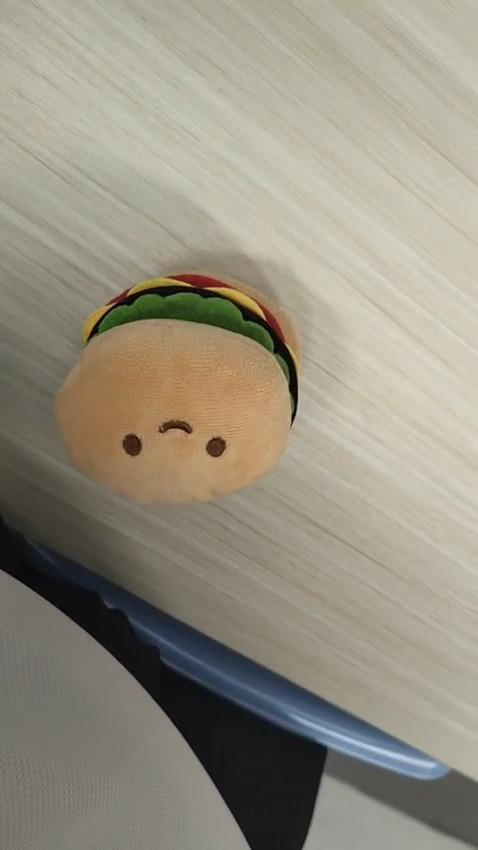hamburger: (58, 269, 307, 509)
